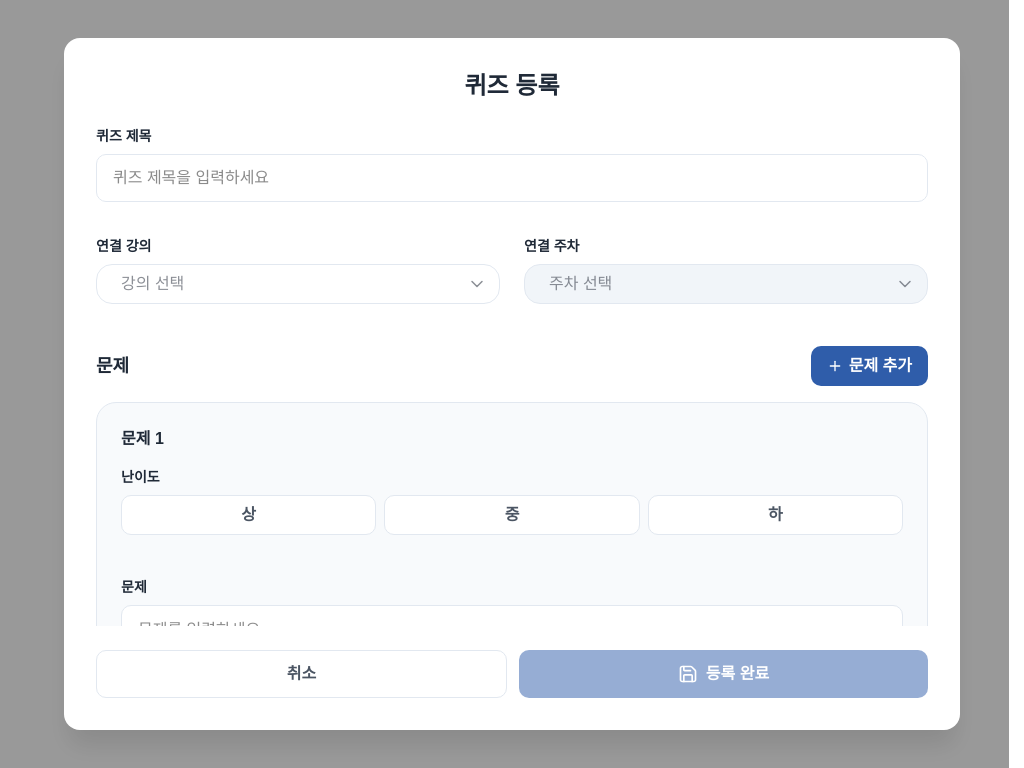
Scenario: QuizFormModal — 퀴즈 등록 모달 통합 › 필수 빈칸 검증 › 정답 선택하면 정답 에러 해제
Click the button "등록 완료". click: (724, 674)
box: [519,650,928,698]
(page scrolled)
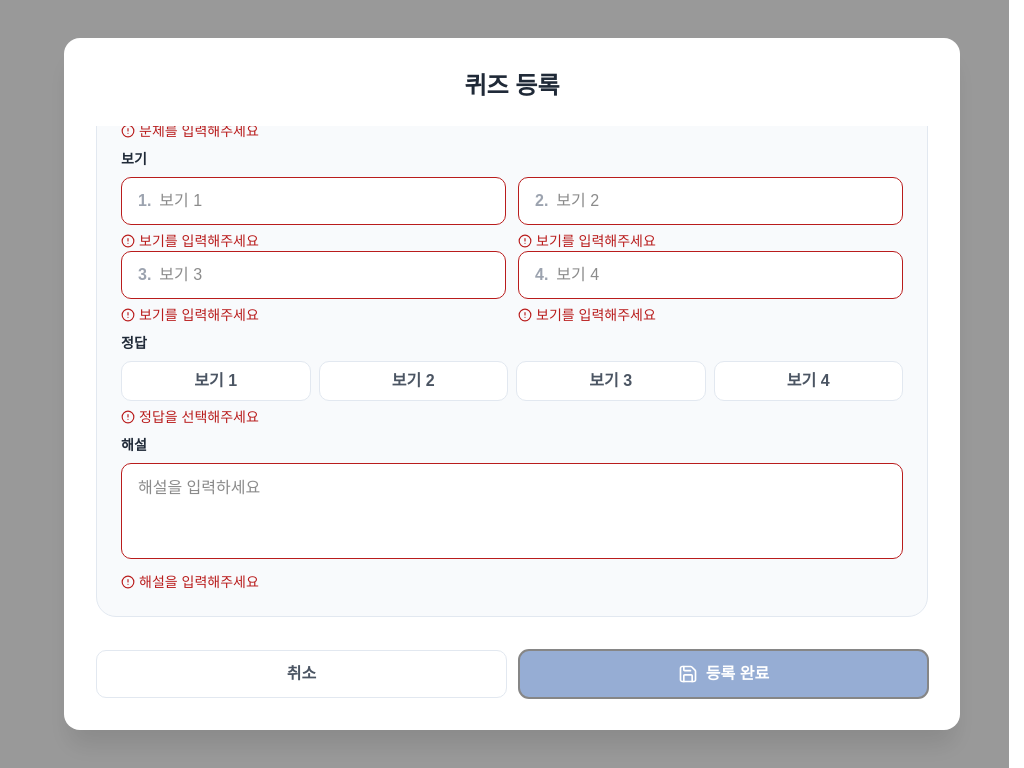
Result: the text "정답을 선택해주세요" is shown at [139,407,259,427]
Click the button with aria-label "정답: 보기 2". click: (413, 381)
box: [318,361,508,401]
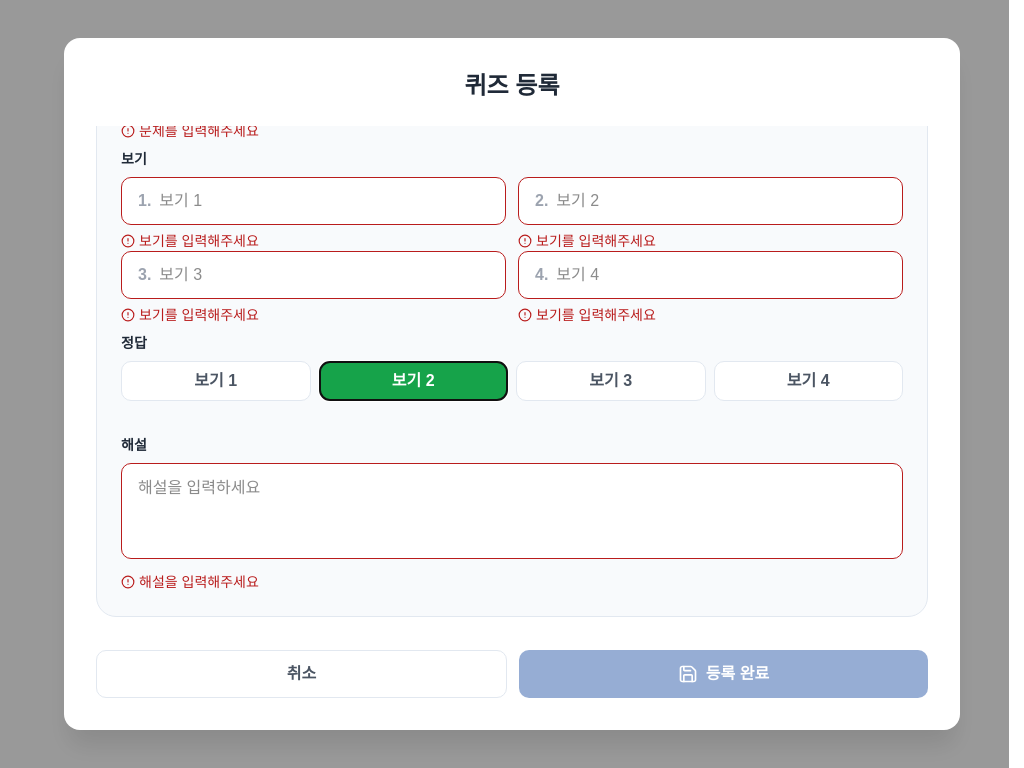
Result: the text "정답을 선택해주세요" is gone
